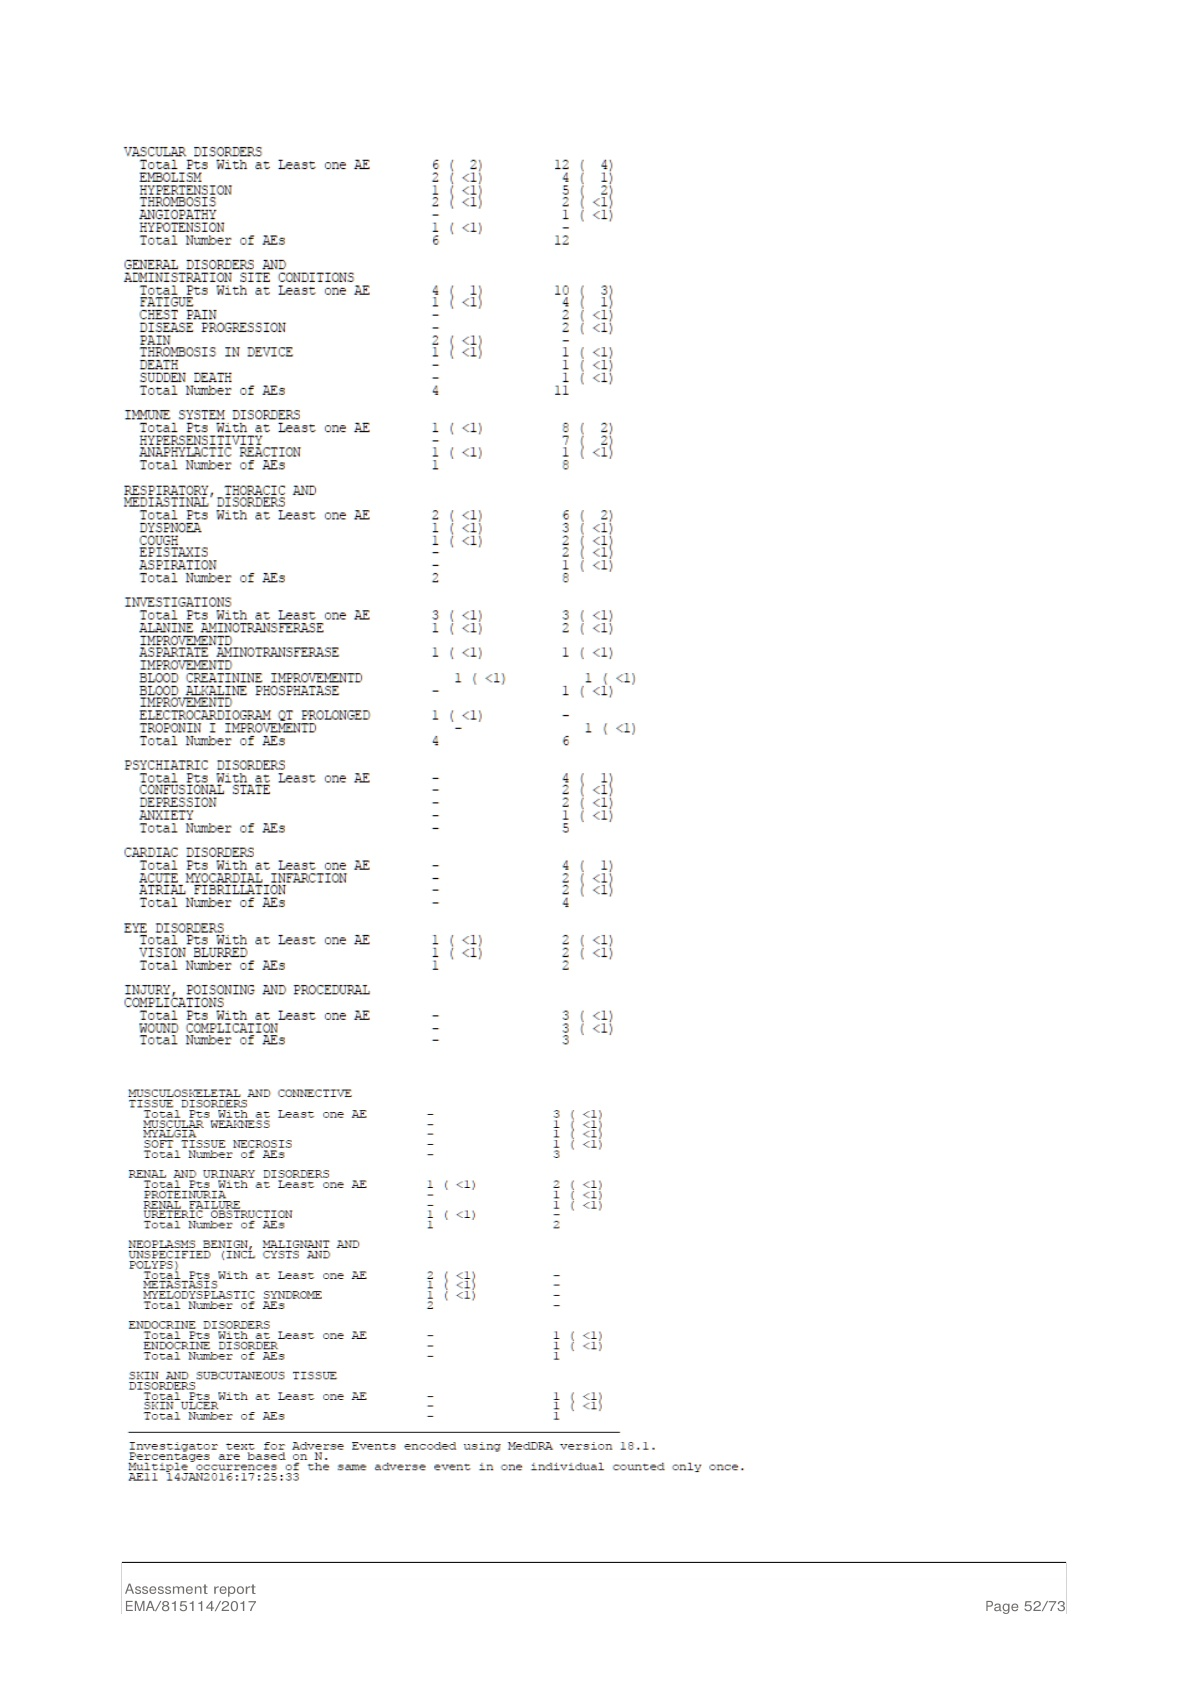nolines: (118, 139, 641, 1433)
